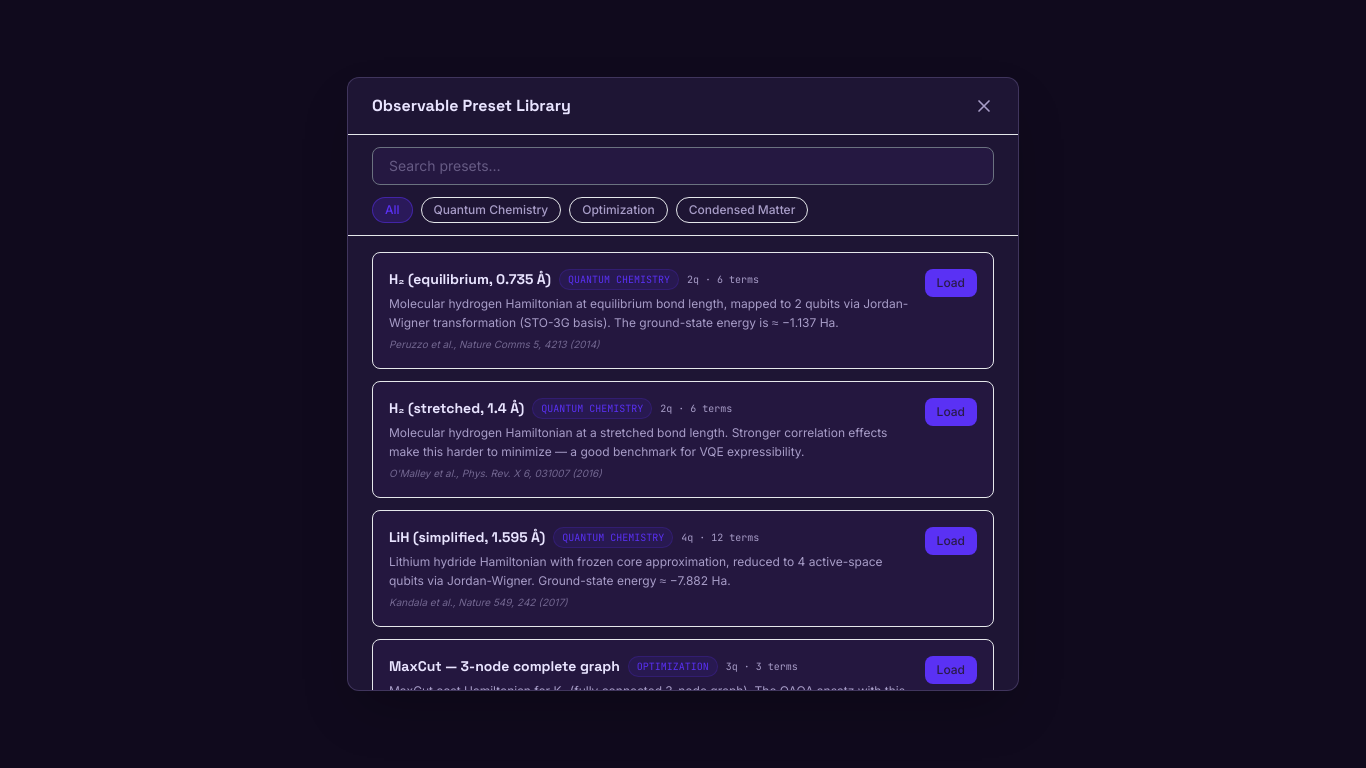
Test case: ObservablePresetModal › shows empty state when search finds nothing
Type "xyznotapreset" into the field labelled "Search presets".
click(683, 166); type("xyznotapreset")  # box [372,147,994,185]
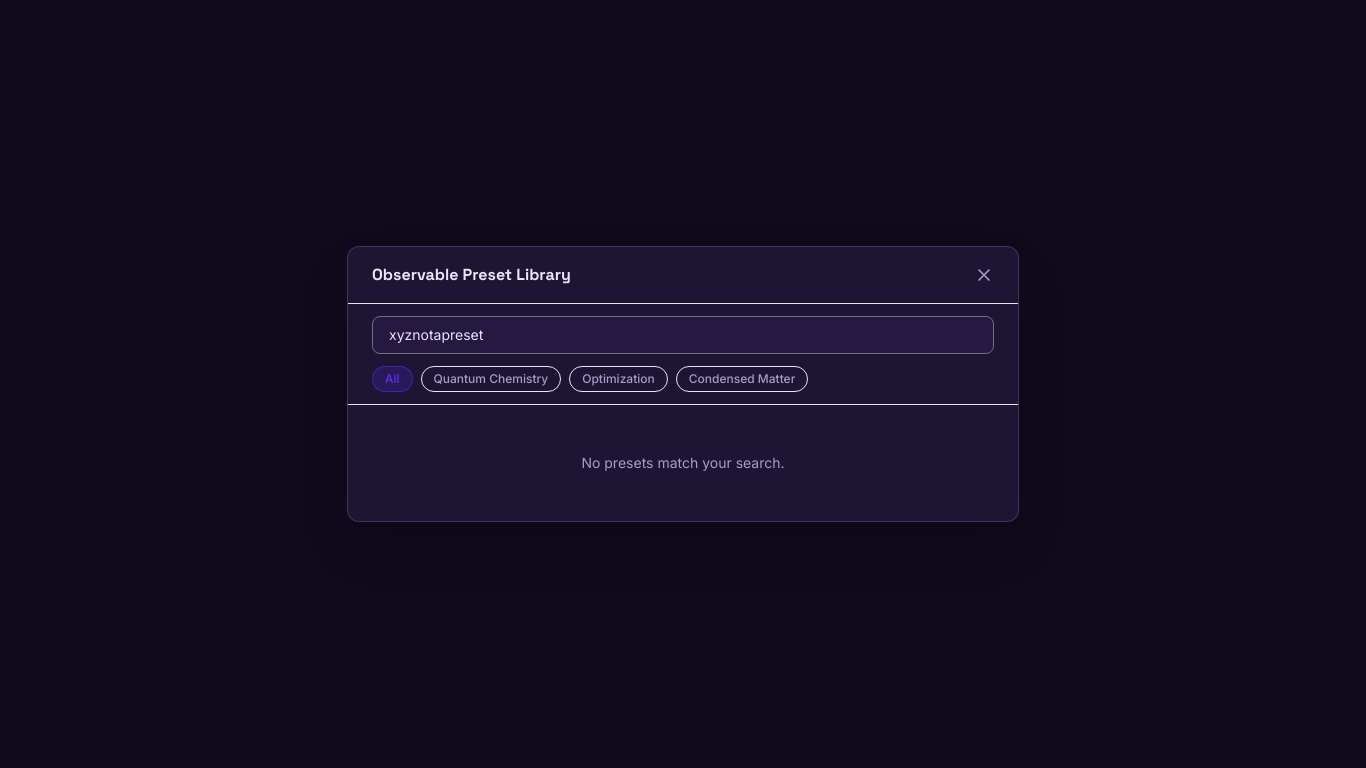
Expected: the text "No presets match your search." is shown, [581,454,784,471]
